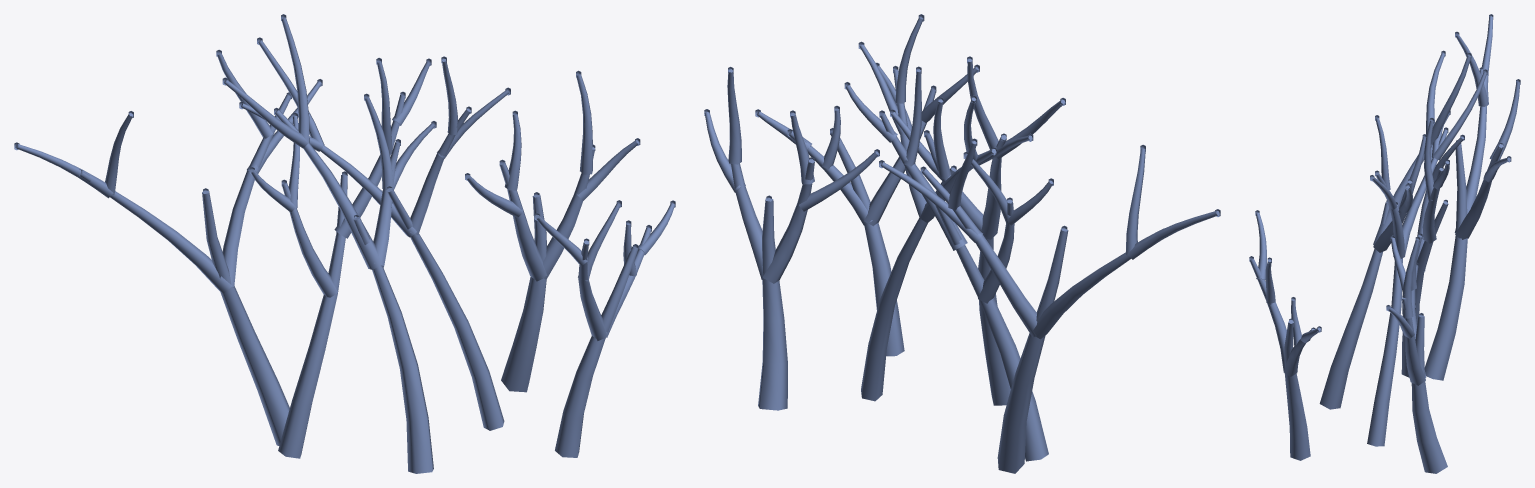
File: coral_blue.glb
The picture shows the model from 3 angles, left to right: view 1: azimuth 30°, elevation 25°; view 2: azimuth 150°, elevation 25°; view 3: azimuth 270°, elevation 25°; orthographic projection. The views are drawn at different scales.
Parts seen in each view (by area): view 1: coral_blue; view 2: coral_blue; view 3: coral_blue.
Boxes of the visible parts, <box> form: coral_blue: <box>14,14,675,473</box>; coral_blue: <box>704,14,1220,473</box>; coral_blue: <box>1249,14,1520,473</box>.
Bounding box in the file's own units: 2.15 × 1.5 × 1.1.
